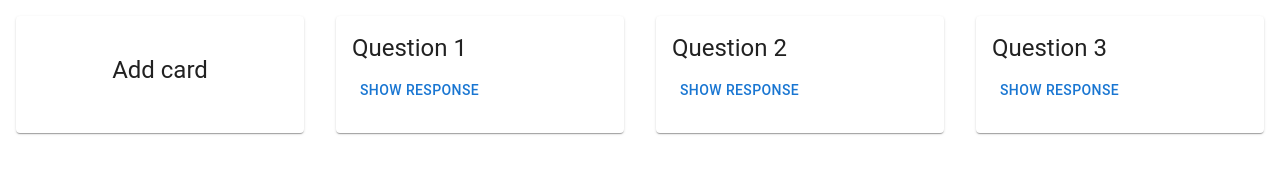
Test: display list of cards with question and show response after show button was clicked
Expected: the number of list items is 4, [0,8,320,141]; [320,8,640,141]; [640,8,960,141]; [960,8,1279,141]
Expected: the heading "Question 1" is shown, [352,34,467,62]
Click the button "Show response" below "Question 1": [420, 91] box [352,72,487,109]
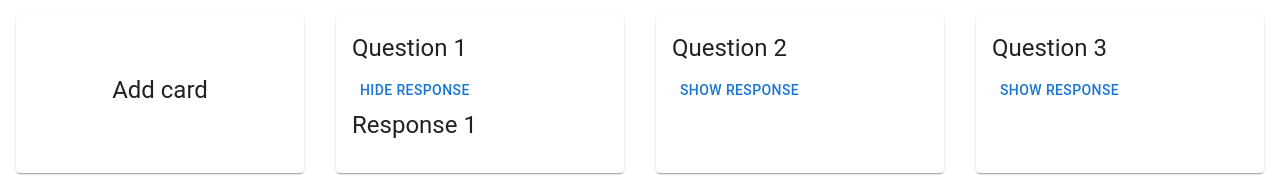
Now the heading "Response 1" is shown, box [352,111,477,139]
Click the button "Show response" below "Question 2": [740, 91] box [672,72,807,109]
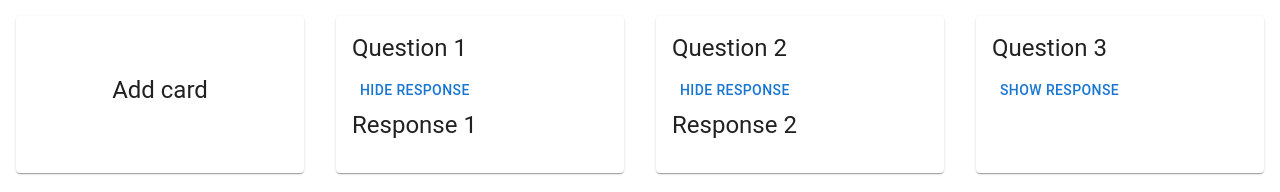
Now the heading "Response 2" is shown, box [672,111,797,139]
Click the button "Show response": [1060, 91] box [992,72,1127,109]
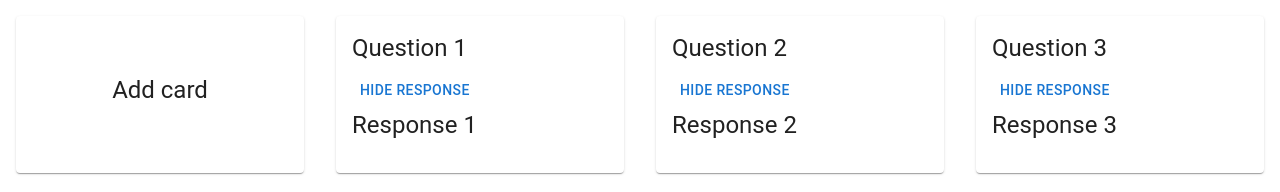
Now the heading "Response 3" is shown, box [992,111,1117,139]
